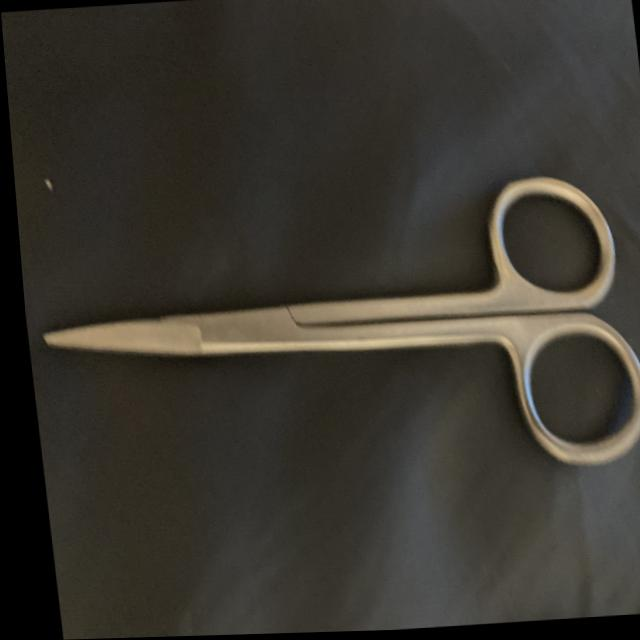scissor: (19, 168, 640, 516)
